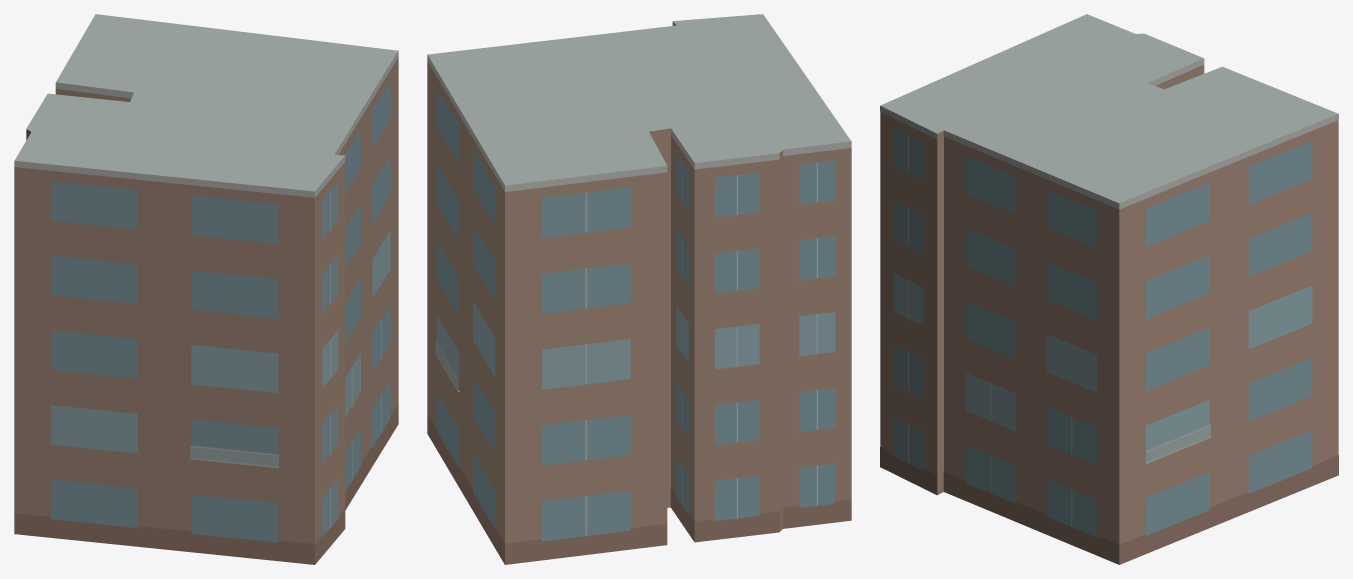
Rendered from survey-upis-32888376.glb.
The picture shows the model from 3 angles, left to right: view 1: azimuth 30°, elevation 25°; view 2: azimuth 150°, elevation 25°; view 3: azimuth 270°, elevation 25°; orthographic projection. The views are drawn at different scales.
Visible parts, largest first — view 1: survey-upis-32888376.tmp; view 2: survey-upis-32888376.tmp; view 3: survey-upis-32888376.tmp.
Part boxes in pixels (x1,y1,x2,y2): survey-upis-32888376.tmp: (14,14,398,564); survey-upis-32888376.tmp: (427,14,851,564); survey-upis-32888376.tmp: (880,14,1338,564).
Size of the model in its own units: 16.19 by 14.4 by 16.56.
